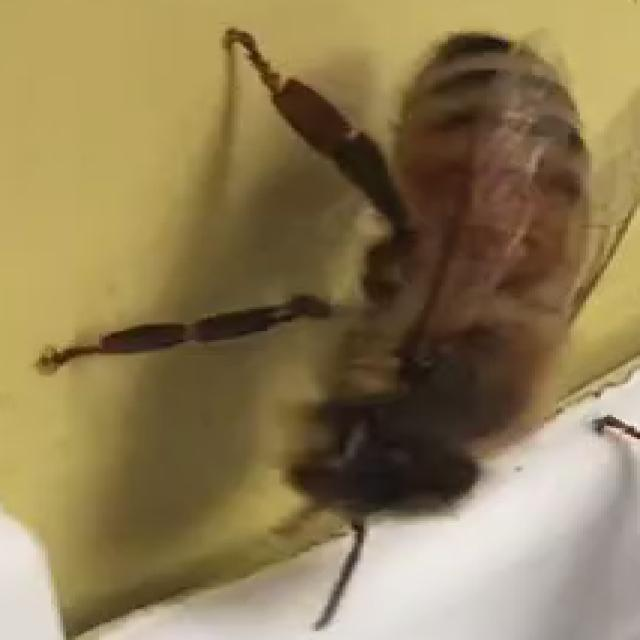honeybee: (35, 30, 624, 627)
